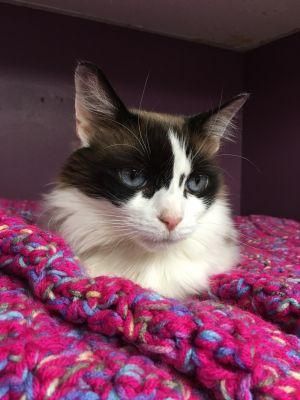ragdoll: (69, 56, 260, 262)
